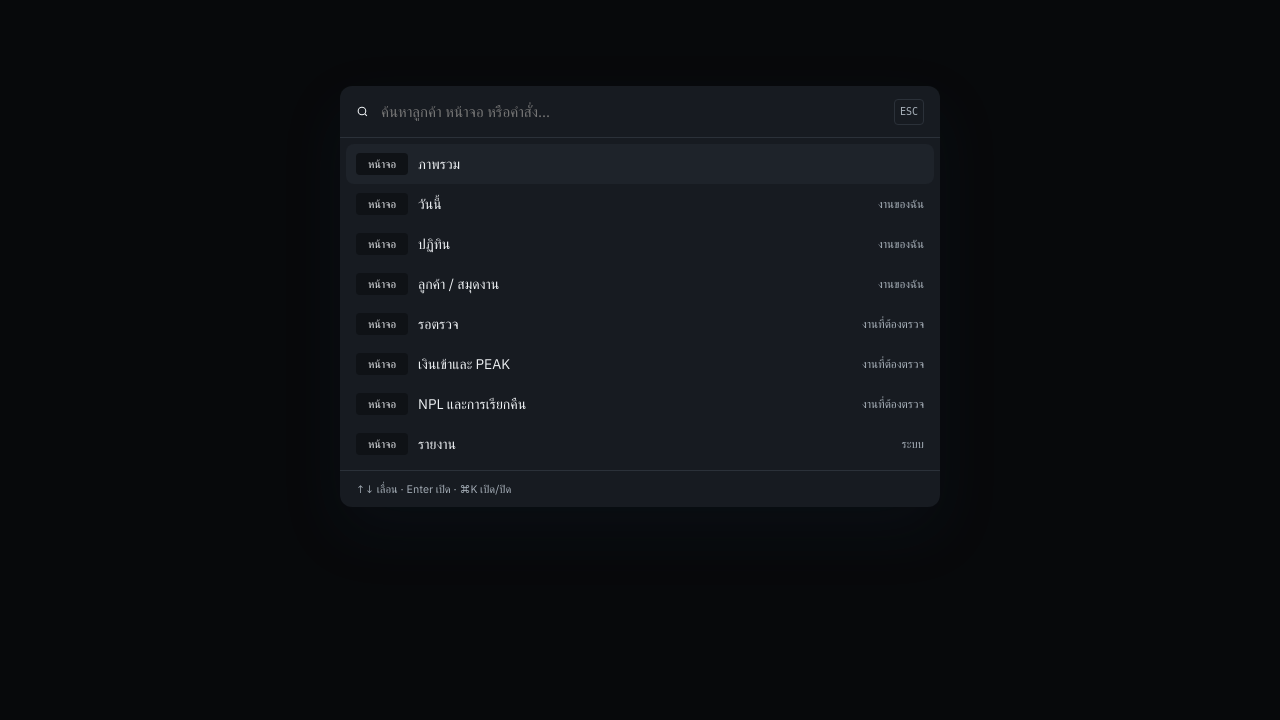
the customer command palette › opens the invoice preview by click for pointer and touch users
Type "ป" into the field.
click(631, 112); type("ป")  # box [379,101,884,122]
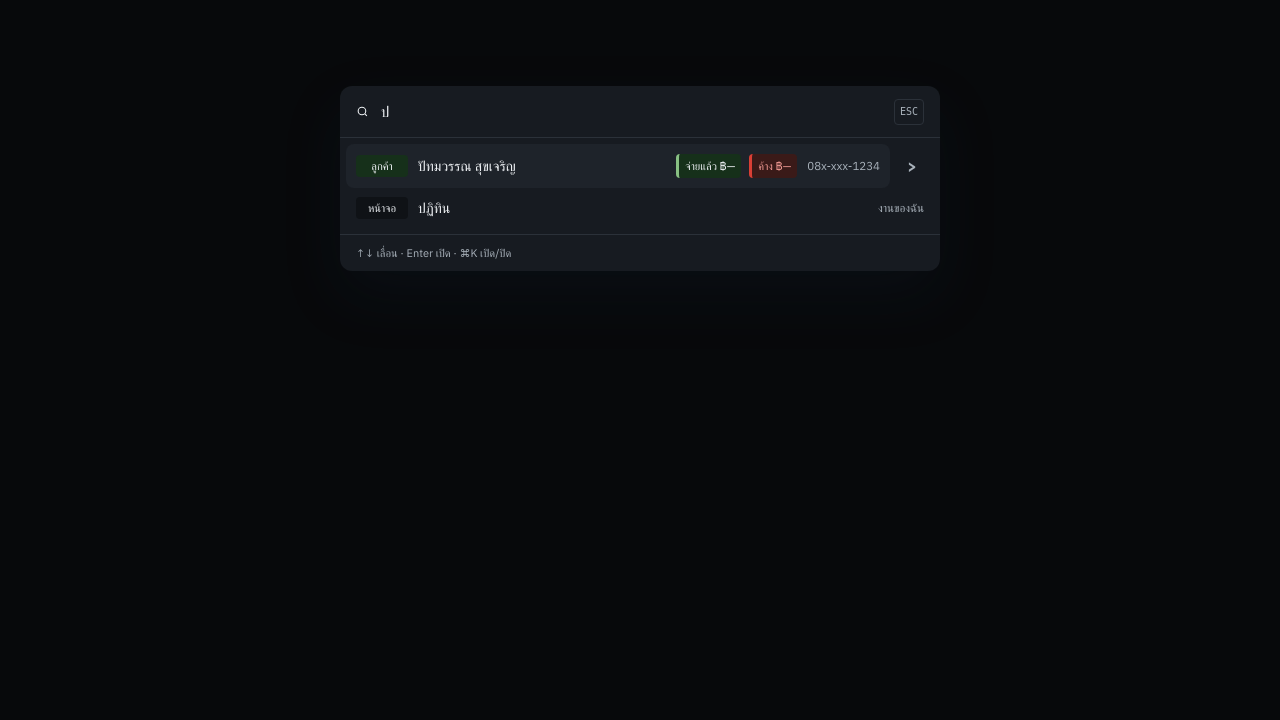
Click the button named "ดูสถานะใบแจ้งหนี้ของ ปัทมวรรณ สุขเจริญ".
click(912, 166)  # box [890,144,934,188]
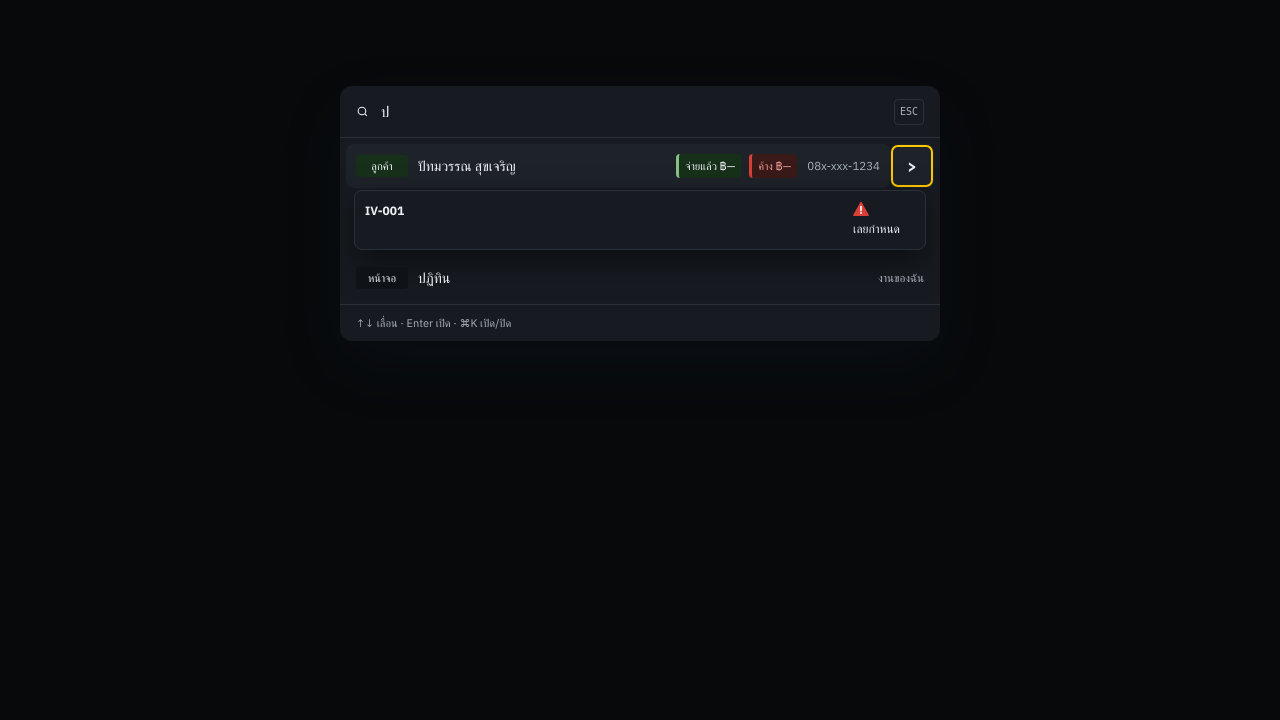
Check: the text "IV-001" is shown, box [365,203,404,218]
